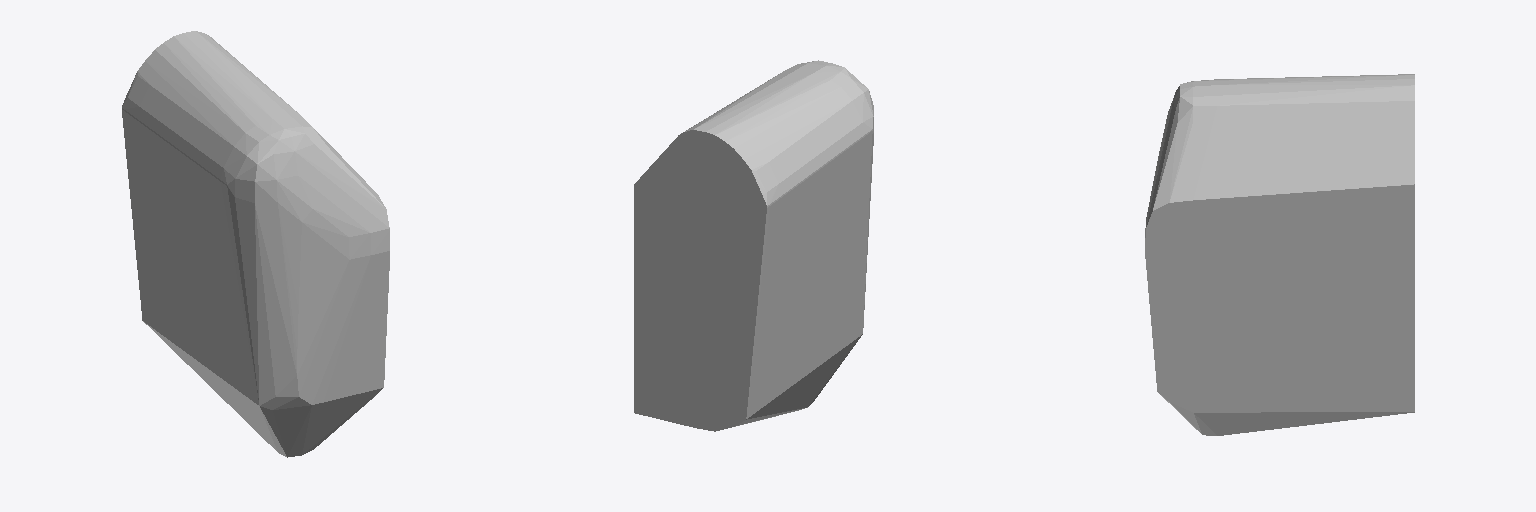
File: sofa_collision_22.obj
3 views of the same model, side by side, from view 1: azimuth 30°, elevation 25°; view 2: azimuth 150°, elevation 25°; view 3: azimuth 270°, elevation 25° (orthographic).
Size of the model in its own units: 60.04 by 150 by 105.